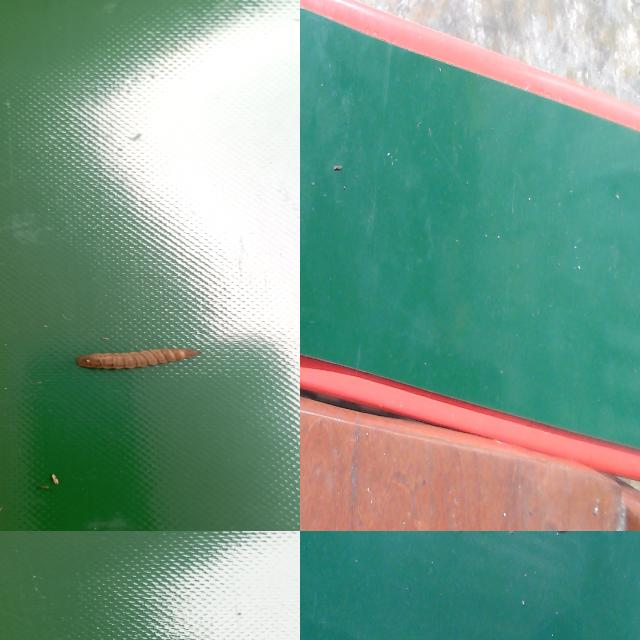Maggot: (74, 348, 206, 374)
